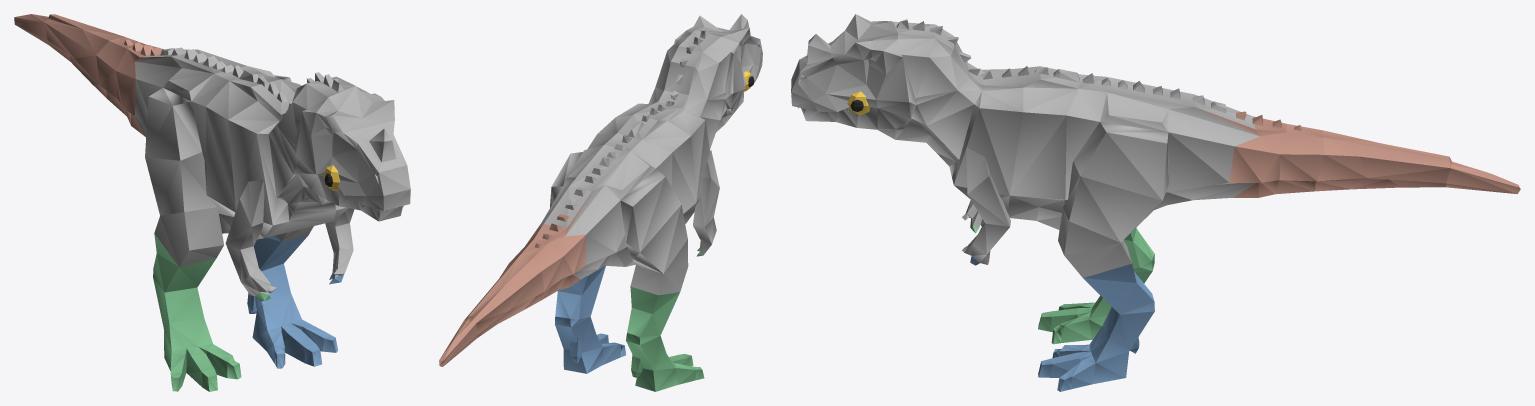
The model's file is cerato.fbx.
3 renders of one model, left to right at view 1: azimuth 30°, elevation 25°; view 2: azimuth 150°, elevation 25°; view 3: azimuth 270°, elevation 25°, orthographic. The views are drawn at different scales.
Parts seen in each view (by area): view 1: cerato_Body, cerato_LegR, cerato_Tail, cerato_LegL; view 2: cerato_Body, cerato_Tail, cerato_LegR, cerato_LegL; view 3: cerato_Body, cerato_Tail, cerato_LegL, cerato_LegR.
Part boxes in pixels (<box>): cerato_Body: <box>135,47,410,296</box>; cerato_LegR: <box>153,234,271,391</box>; cerato_Tail: <box>14,14,169,135</box>; cerato_LegL: <box>247,235,344,368</box>; cerato_Body: <box>540,14,762,295</box>; cerato_Tail: <box>439,195,589,366</box>; cerato_LegR: <box>626,248,704,391</box>; cerato_LegL: <box>555,265,625,373</box>; cerato_Body: <box>791,14,1259,277</box>; cerato_Tail: <box>1198,108,1520,197</box>; cerato_LegL: <box>970,256,1154,391</box>; cerato_LegR: <box>970,218,1154,344</box>.
Bounding box in the file's own units: 2.35 × 4.77 × 9.46.
